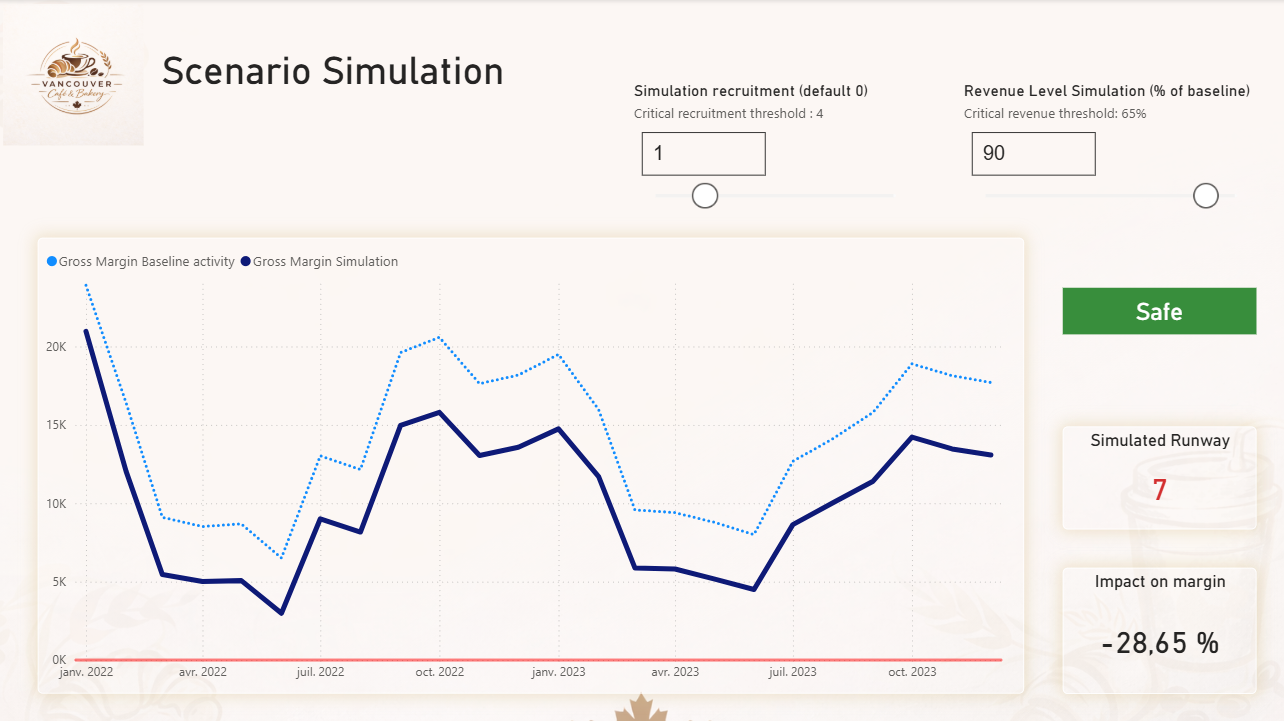

The page's visual inventory and layout, read from the dashboard file:
{"tool":"powerbi","page":{"name":"Scenario Simulation","canvas":[1280,720],"ordinal":3},"visuals":[{"type":"image","box":[0,0,1280,720.3],"z":0},{"type":"lineChart","fields":{"Y":["_mesures._Marge_Brut","_mesures._Marge_Brut+1Payroll"],"Category":["dim_time.date_yyyy_mm_dd.Variation.Hiérarchie de dates.Année","dim_time.date_yyyy_mm_dd.Variation.Hiérarchie de dates.Mois"]},"box":[38.4,237.6,981.6,453.8],"z":1000},{"type":"slicer","title":"Revenue Level Simulation (% of baseline)","fields":{"Values":["Paramètre.Paramètre"]},"box":[955.2,81.6,297.6,126.4],"z":2000},{"type":"textbox","box":[156.9,43.1,372.6,65.4],"z":3000},{"type":"slicer","title":"Simulation recruitment (default 0)","fields":{"Values":["cursor_employees.cursor_employees"]},"box":[627.2,81.6,286.4,126.4],"z":4000},{"type":"card","title":"Simulated Runway","fields":{"Values":["_mesures._Simulated_runway"]},"box":[1058.6,425.4,192.8,102],"z":5000},{"type":"card","title":"Impact on margin","fields":{"Values":["_mesures._impactSimulatedMargin"]},"box":[1058.6,566,192.8,125.6],"z":6000},{"type":"card","fields":{"Values":["_mesures._Risk Indicator"]},"box":[1058.6,287.4,192.8,46],"z":7000},{"type":"image","box":[0,5,148,140.6],"z":7001}]}

Visuals, with their boxes in screenshot pixels (x1, y1, x2, y2), scaled from the page's 1280x720 canvas onto the 1284x721 screenshot:
image: select_region(0, 0, 1283, 720)
lineChart - _mesures._Marge_Brut x _mesures._Marge_Brut+1Payroll: select_region(39, 238, 1023, 692)
"Revenue Level Simulation (% of baseline)" slicer: select_region(958, 82, 1257, 208)
textbox: select_region(157, 43, 531, 109)
"Simulation recruitment (default 0)" slicer: select_region(629, 82, 916, 208)
"Simulated Runway" card: select_region(1062, 426, 1255, 528)
"Impact on margin" card: select_region(1062, 567, 1255, 693)
card - _mesures._Risk Indicator: select_region(1062, 288, 1255, 334)
image: select_region(0, 5, 148, 146)
